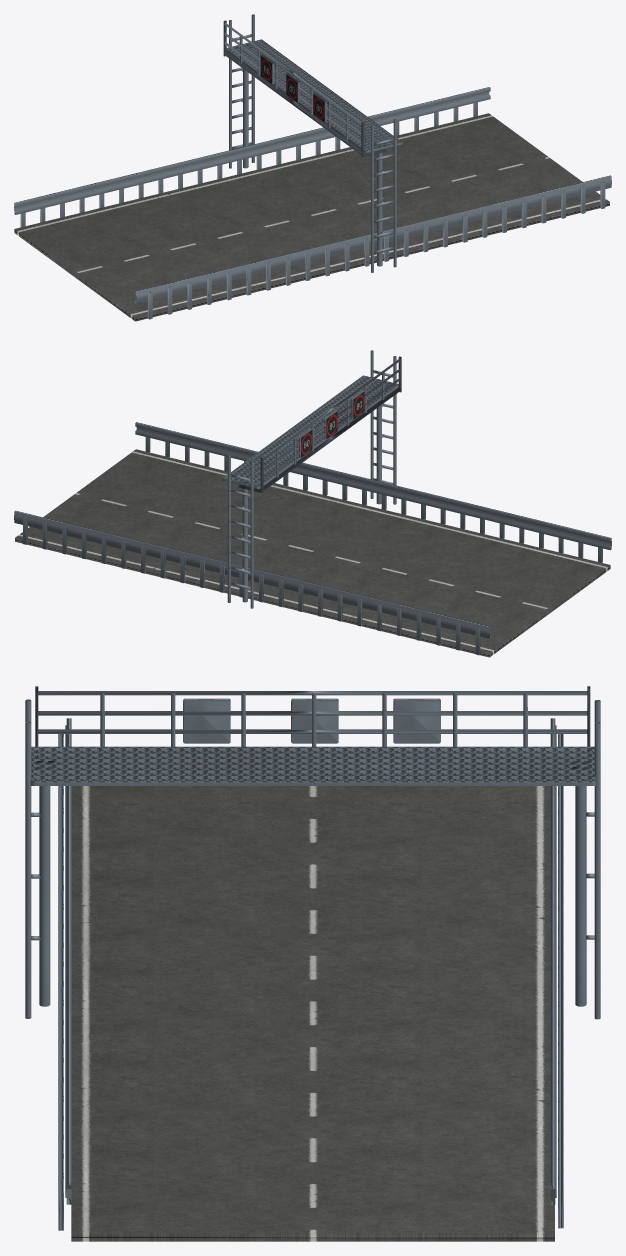
The model's file is Autobahn.fbx.
The picture shows the model from 3 angles, top to bottom: view 1: azimuth 30°, elevation 25°; view 2: azimuth 150°, elevation 25°; view 3: azimuth 270°, elevation 25°; orthographic projection. The views are drawn at different scales.
Visible parts, largest first — view 1: Plane.001, Cylinder.006, Cube.002, Cube.001, Cylinder.001; view 2: Plane.001, Cylinder.006, Cube.001, Cube.002, Cylinder.001; view 3: Plane.001, Cylinder.006, Cube.002, Cube.001, Cylinder.001.
Part boxes in pixels (x1,y1,x2,y2): Plane.001: (14,113,609,321); Cylinder.006: (223,14,402,272); Cube.002: (135,175,611,319); Cube.001: (14,87,490,227); Cylinder.001: (260,54,326,123); Plane.001: (15,449,610,657); Cylinder.006: (222,350,401,608); Cube.001: (14,510,490,655); Cube.002: (135,422,611,562); Cylinder.001: (298,390,364,458); Plane.001: (71,786,554,1241); Cylinder.006: (25,686,600,1019); Cube.002: (58,718,71,1230); Cube.001: (550,718,563,1228); Cylinder.001: (183,698,440,743).
Size of the model in its own units: 3379 by 1035 by 1772.
